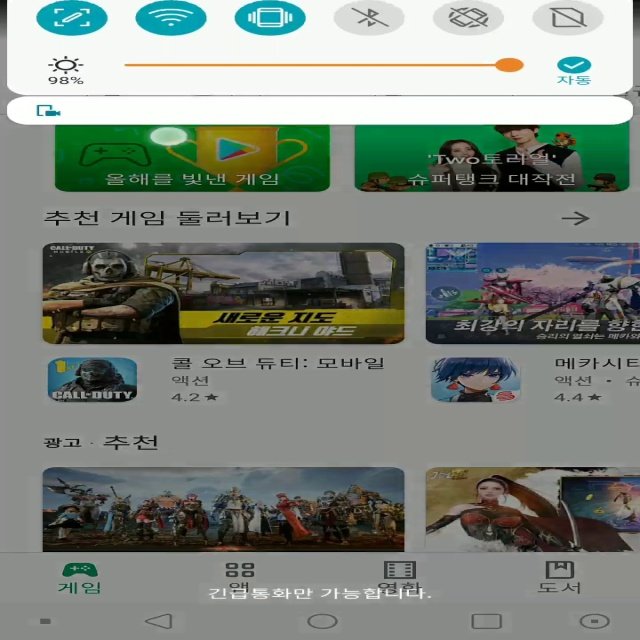Cursor: (147, 125, 192, 147)
